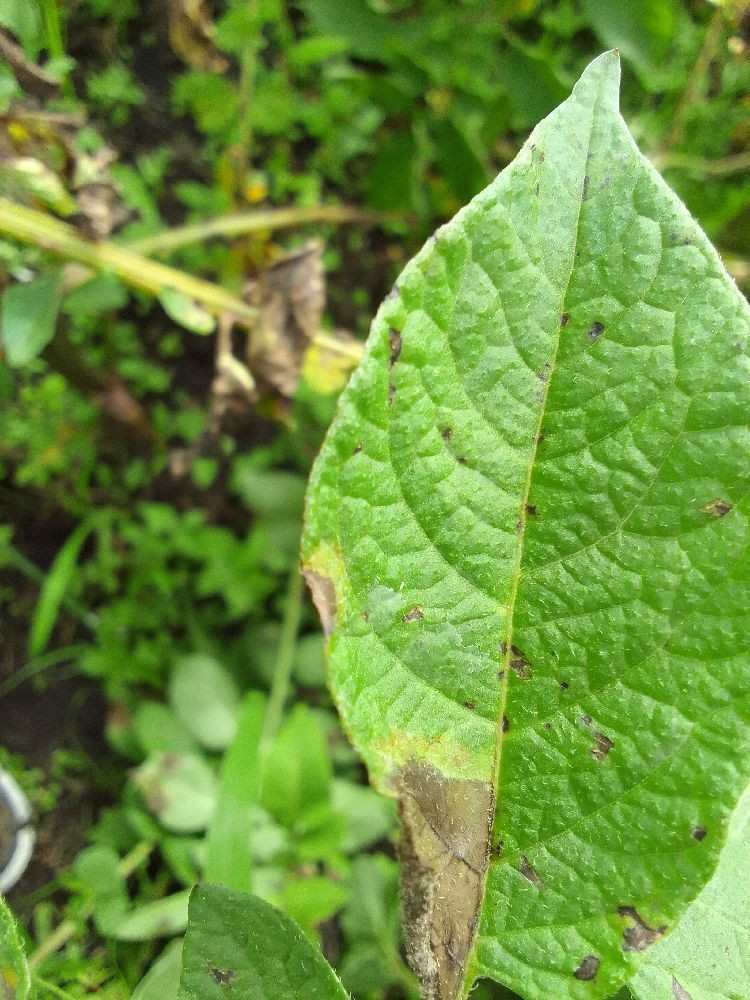late_blight: (62, 130, 426, 541), (331, 734, 529, 1000), (39, 580, 111, 659), (292, 557, 343, 637)
